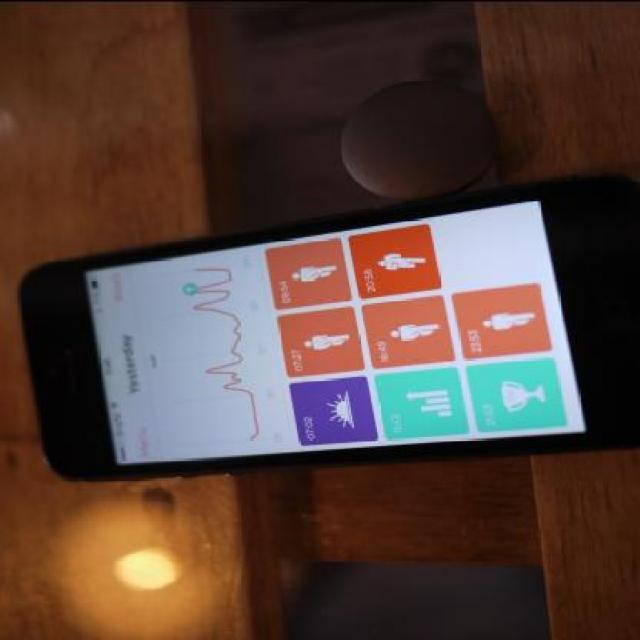phone: (22, 198, 628, 478)
